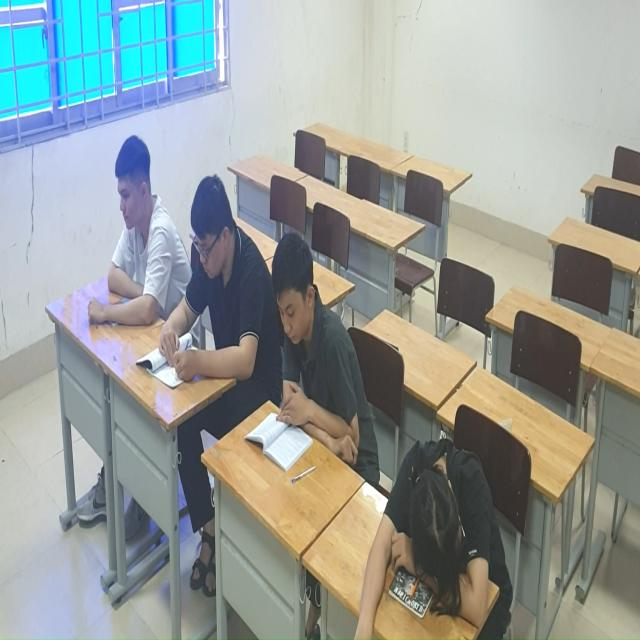read: (271, 212, 374, 486), (158, 178, 270, 425), (102, 96, 188, 349)
sleep: (348, 439, 519, 640)
